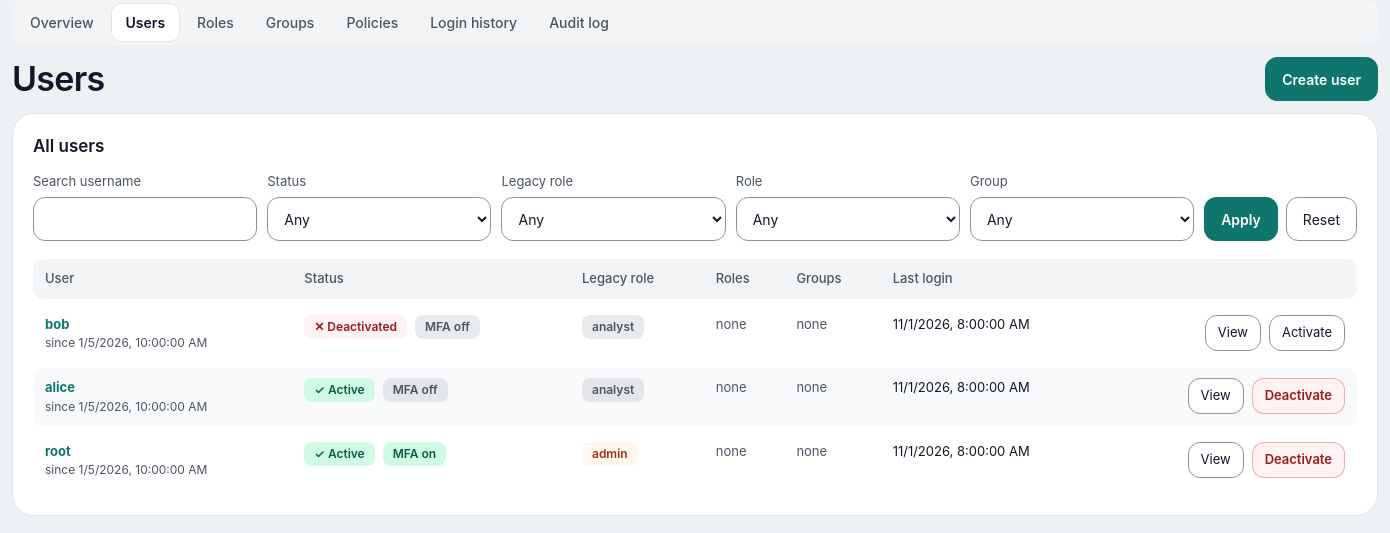
Scenario: IAM users list › sends the filters to the API and can reset them
The width and height of the screenshot is (1390, 533).
Type "ali" into the field labelled "Search username". click: coordinates (145, 219)
box: x1=33 y1=197 x2=257 y2=241
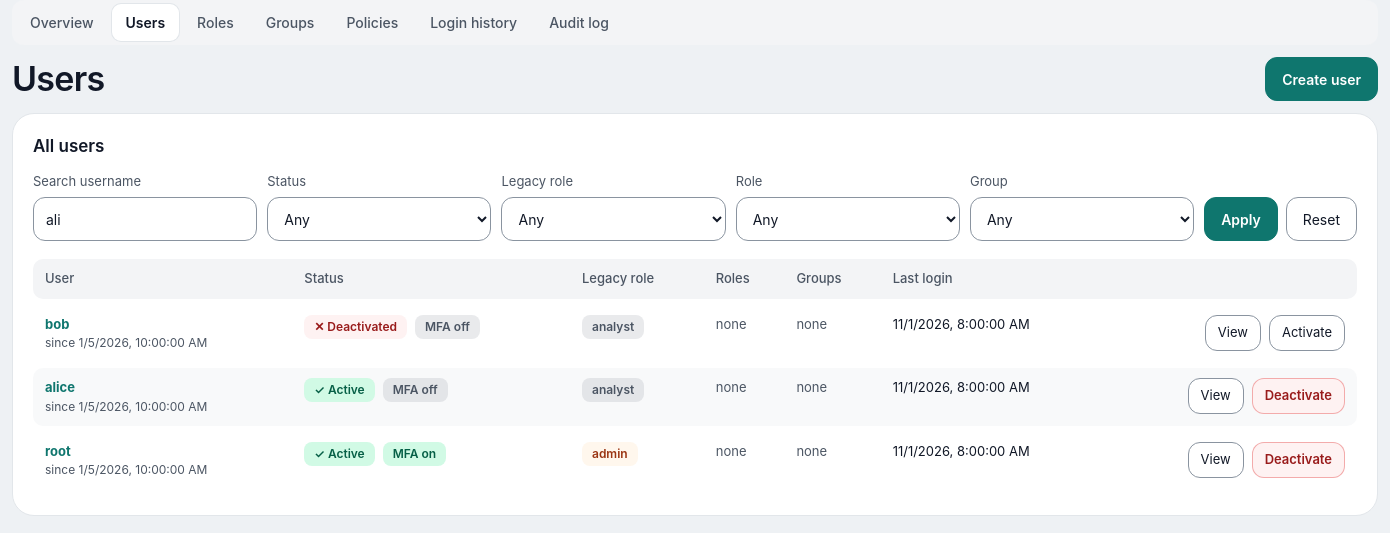
Select "Active" in the dropdown labelled "Status". click: coordinates (379, 219)
box: x1=267 y1=197 x2=491 y2=241
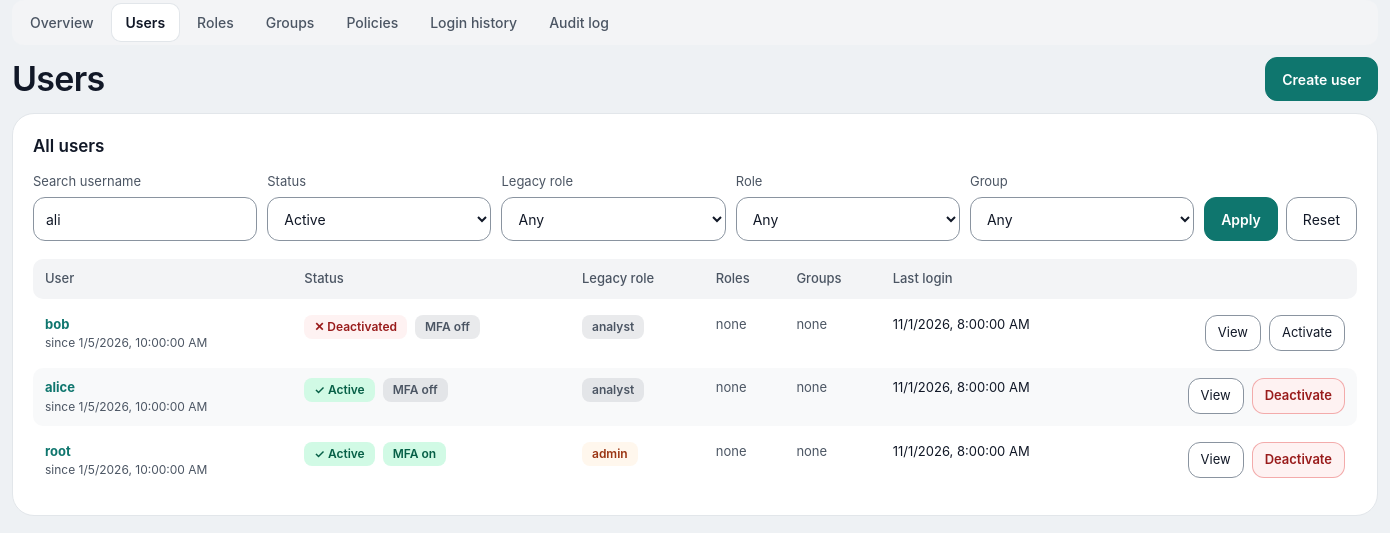
Select "analyst" in the dropdown labelled "Legacy role". click: coordinates (614, 219)
box: x1=502 y1=197 x2=726 y2=241
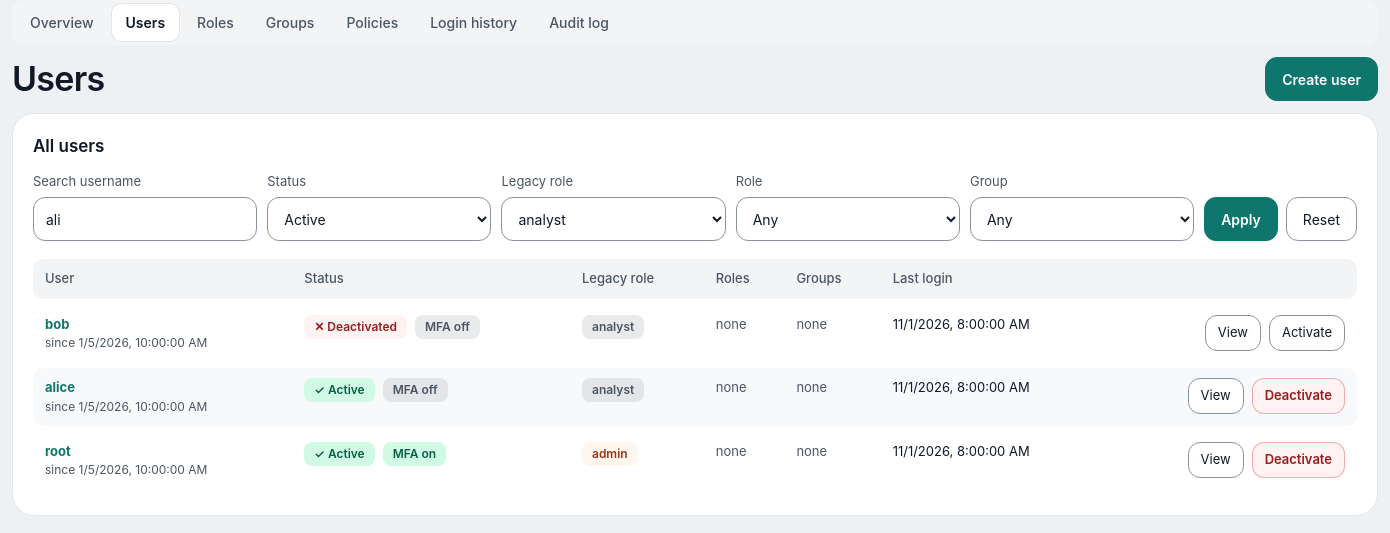
Select "ops" in the dropdown labelled "Group". click: coordinates (1082, 219)
box: x1=970 y1=197 x2=1194 y2=241
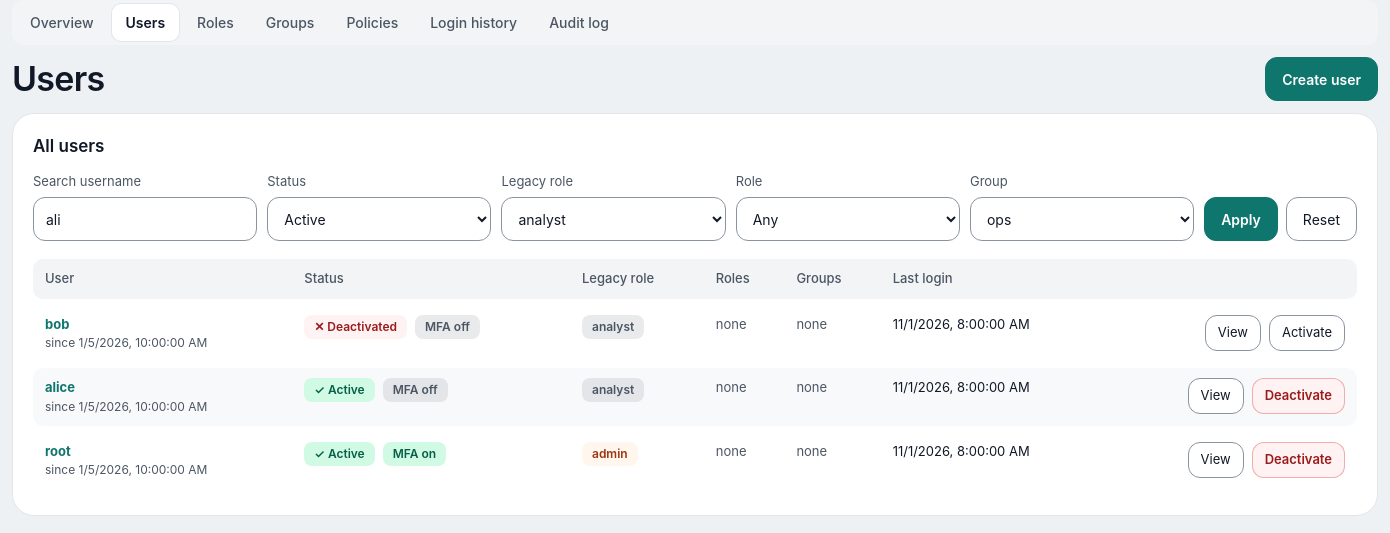
Click the button "Apply". click: coordinates (1241, 219)
box: x1=1204 y1=197 x2=1278 y2=241
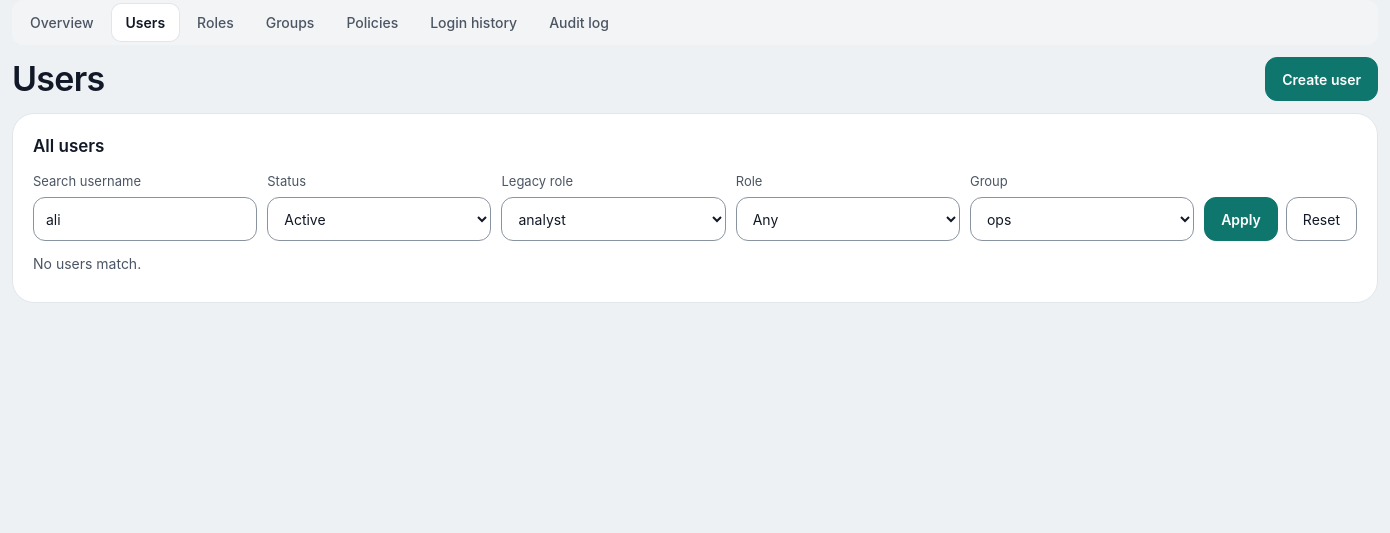
Expected: the text "No users match." is shown, x1=33 y1=255 x2=141 y2=272
Click the button "Reset". click: coordinates (1321, 219)
box: x1=1286 y1=197 x2=1357 y2=241
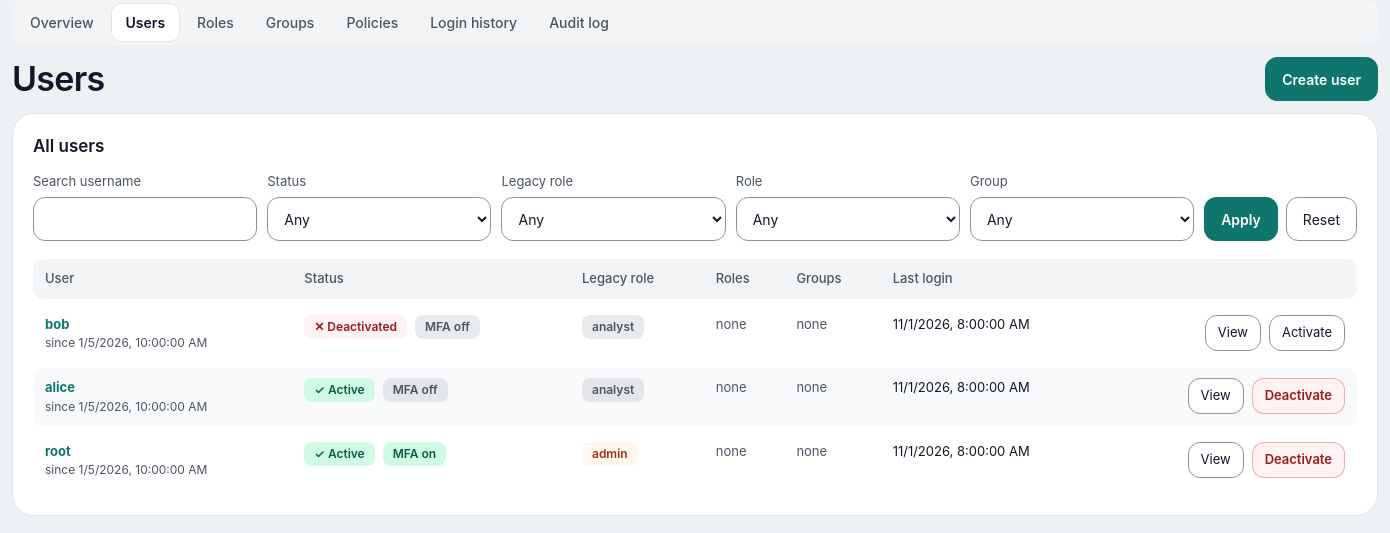
Expected: the link "alice" is shown, x1=45 y1=379 x2=75 y2=395
Expected: the field labelled "Search username" is empty, x1=33 y1=197 x2=257 y2=241
